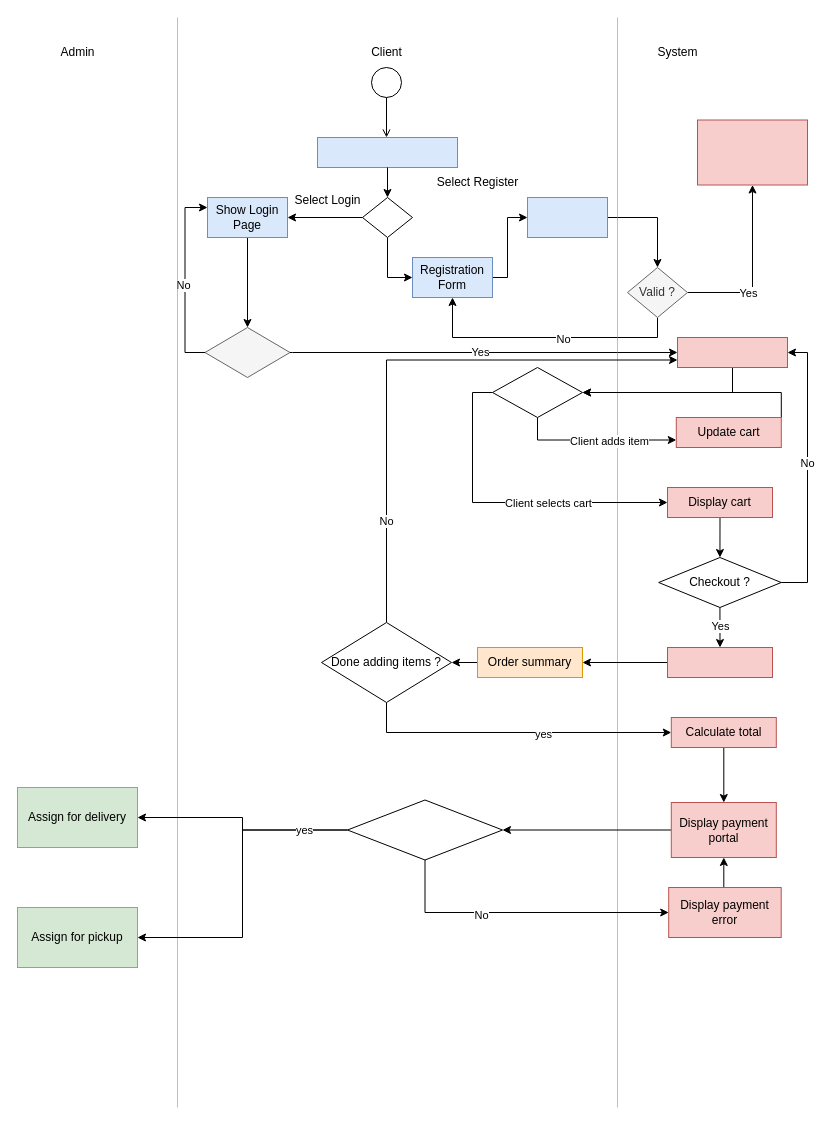
This 833x1126 diagram has some shape labels left out. Here are the shapes that lost their labels. From the top down, the box of each, then its label:
(316, 136, 458, 168): Login/Register page
(696, 119, 808, 185): Create new account for client and save data to databse
(526, 196, 608, 238): Enter required data
(204, 326, 290, 378): Verified ?
(676, 336, 788, 368): Display products
(666, 646, 772, 678): Display order summary
(346, 799, 502, 860): Payment successful ?
